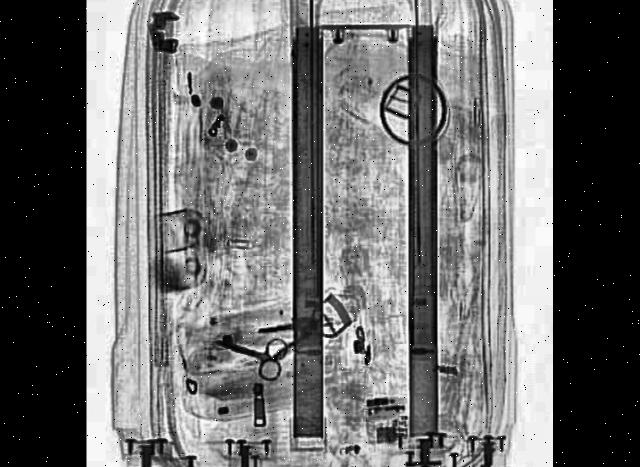Scissors: (214, 315, 288, 384)
